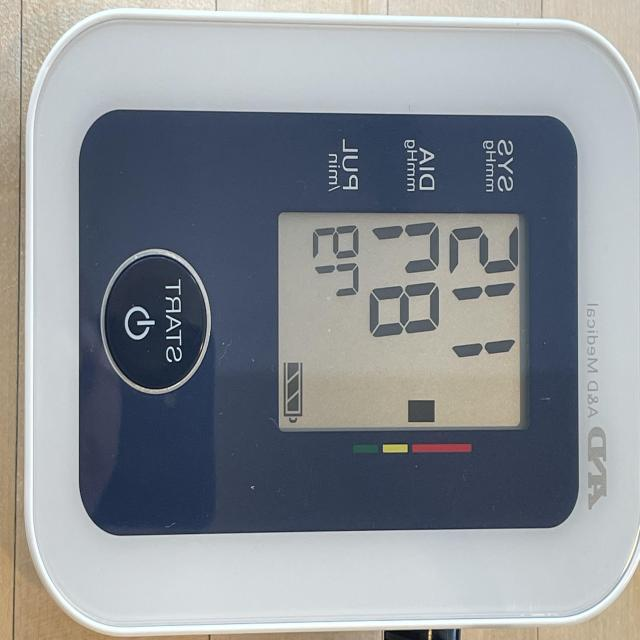bp: (18, 11, 640, 640)
